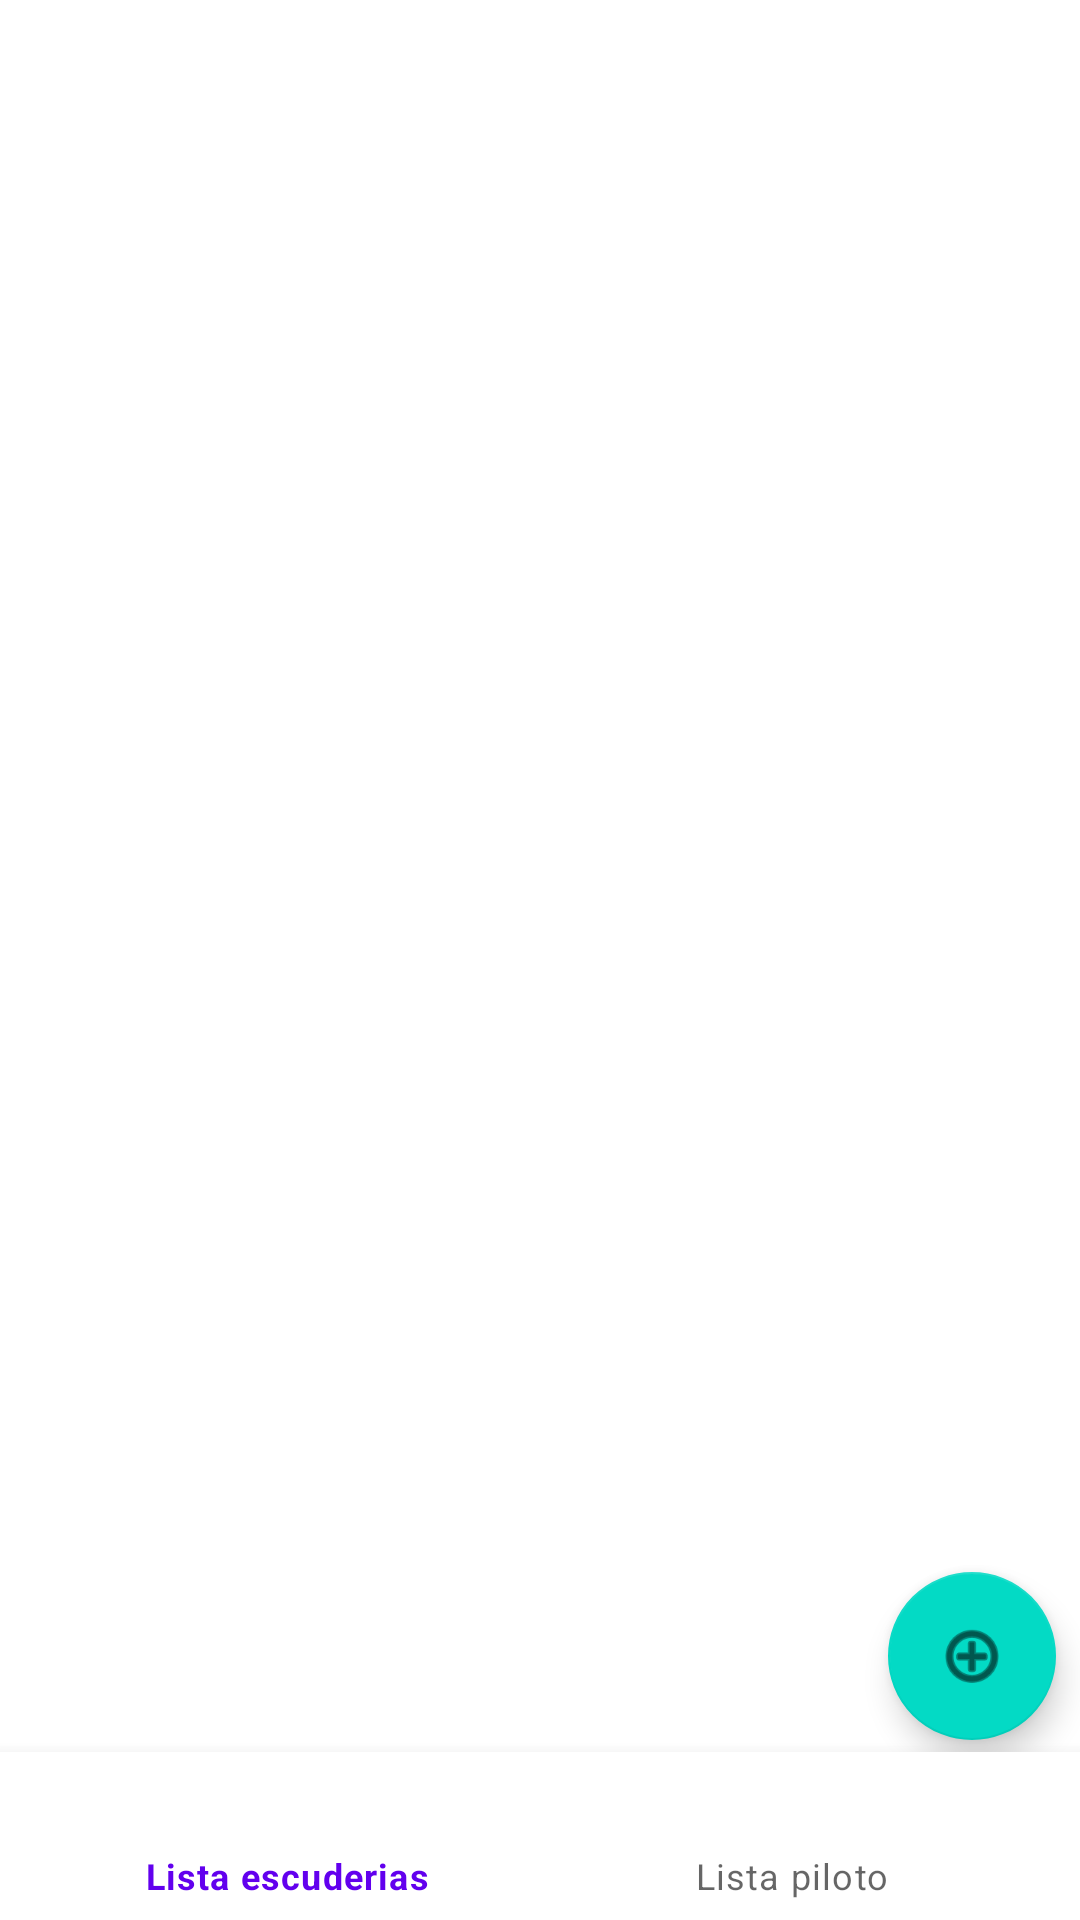

Named icons in this screenshot (1080 x 1920) and their bounding boxes, (x1, y1, x2, y2):
add: (888, 1572, 1056, 1740)
